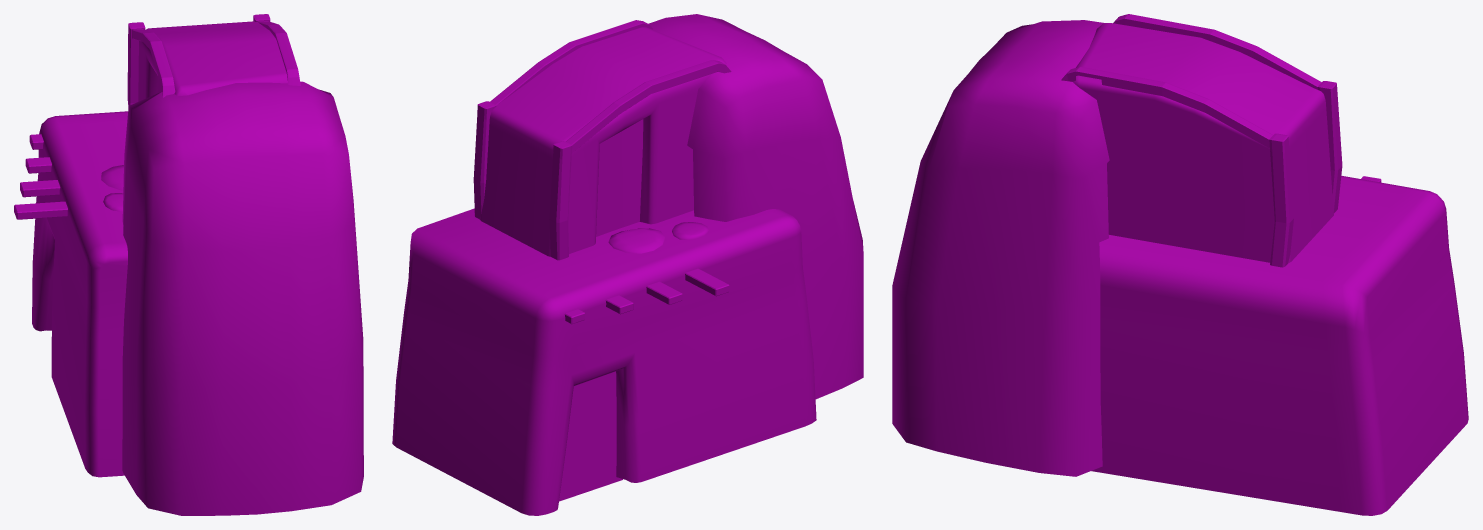
File: Adobe_A.fbx
3 renders of one model, left to right at view 1: azimuth 30°, elevation 25°; view 2: azimuth 150°, elevation 25°; view 3: azimuth 270°, elevation 25°, orthographic. The views are drawn at different scales.
Visible parts, largest first — view 1: Adobe_A_Stone, Adobe_A_Steel; view 2: Adobe_A_Stone, Adobe_A_Door_Wood, Adobe_A_Steel; view 3: Adobe_A_Stone, Adobe_A_Steel.
Part boxes in pixels (x1,y1,x2,y2): Adobe_A_Stone: (32, 21, 363, 515); Adobe_A_Steel: (14, 14, 300, 219); Adobe_A_Stone: (392, 14, 863, 515); Adobe_A_Door_Wood: (559, 119, 643, 501); Adobe_A_Steel: (473, 20, 731, 324); Adobe_A_Stone: (892, 20, 1468, 515); Adobe_A_Steel: (1061, 14, 1381, 267).
Bounding box in the file's own units: 7.77 × 8.79 × 11.78.
